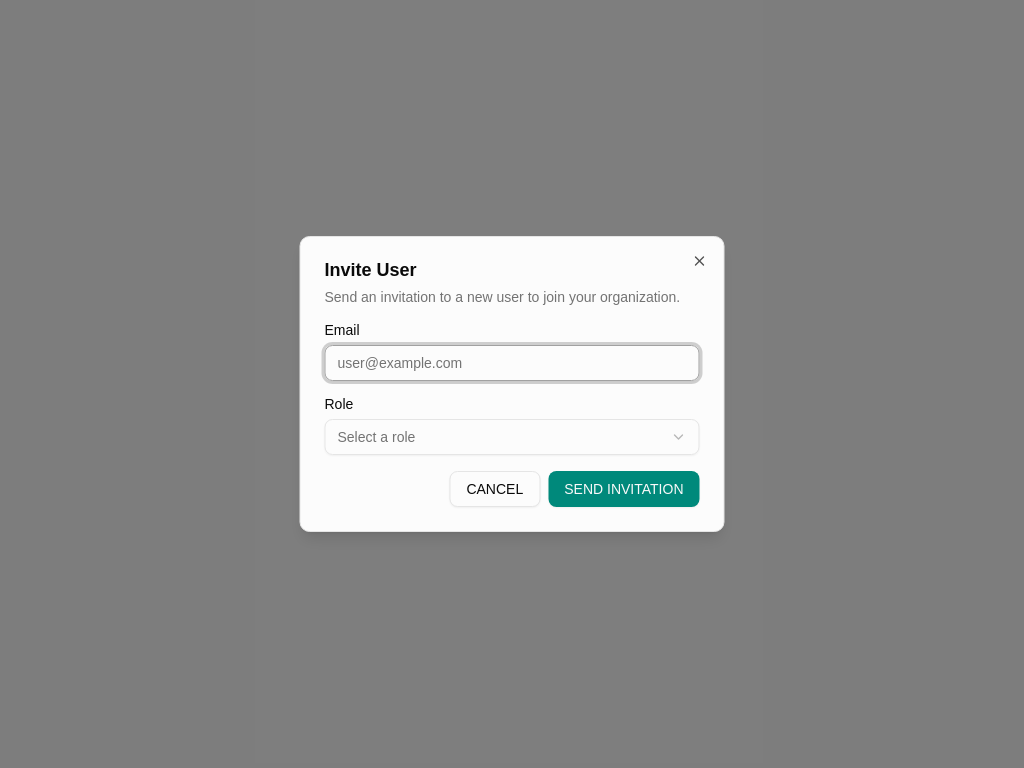
Test case: InviteUserDialog — RBAC v2 role dropdown › renders exactly the role options provided by useRoles (admin, analyst, member)
Click the dropdown with test id "invite-role-select" at (376, 437), box left=324, top=419, right=700, bottom=455
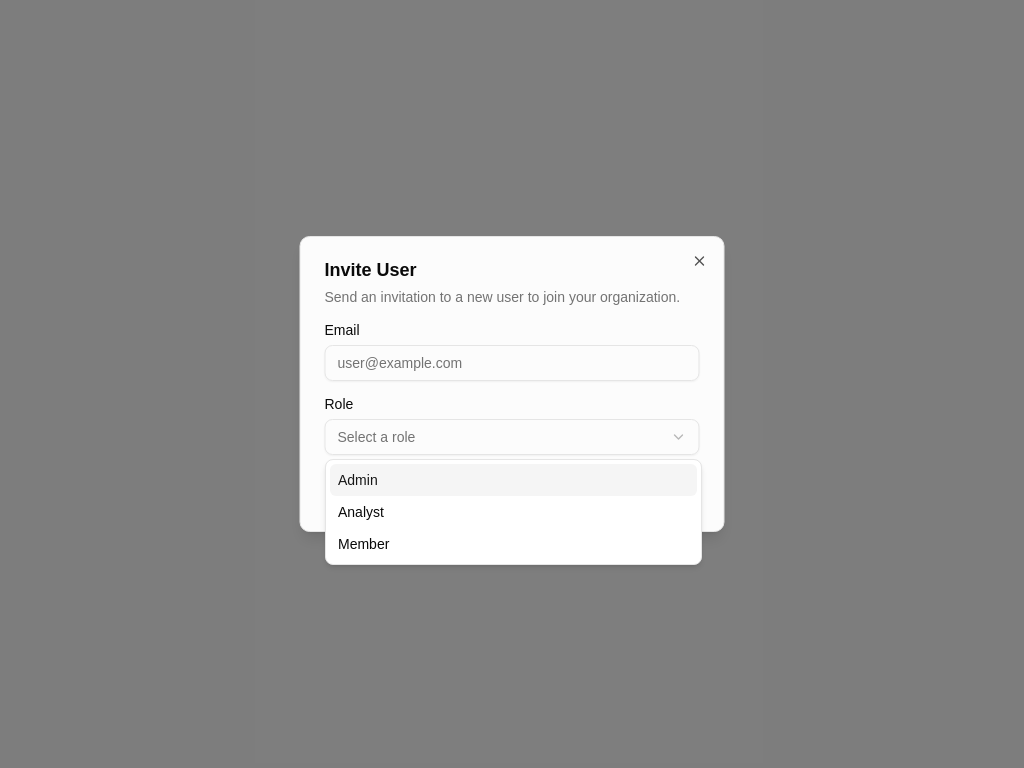
Expected: the text "Admin" is shown, left=338, top=470, right=378, bottom=490
Expected: the text "Analyst" is shown, left=338, top=502, right=384, bottom=522
Expected: the text "Member" is shown, left=338, top=534, right=389, bottom=554
